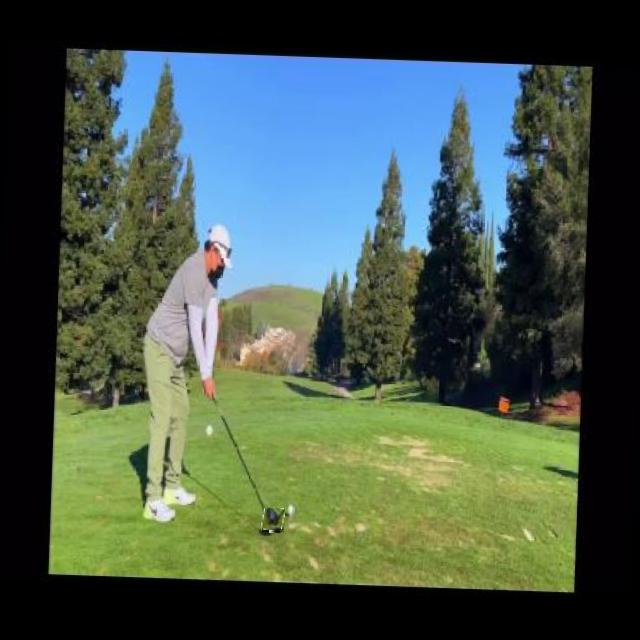club head: (262, 508, 284, 532)
